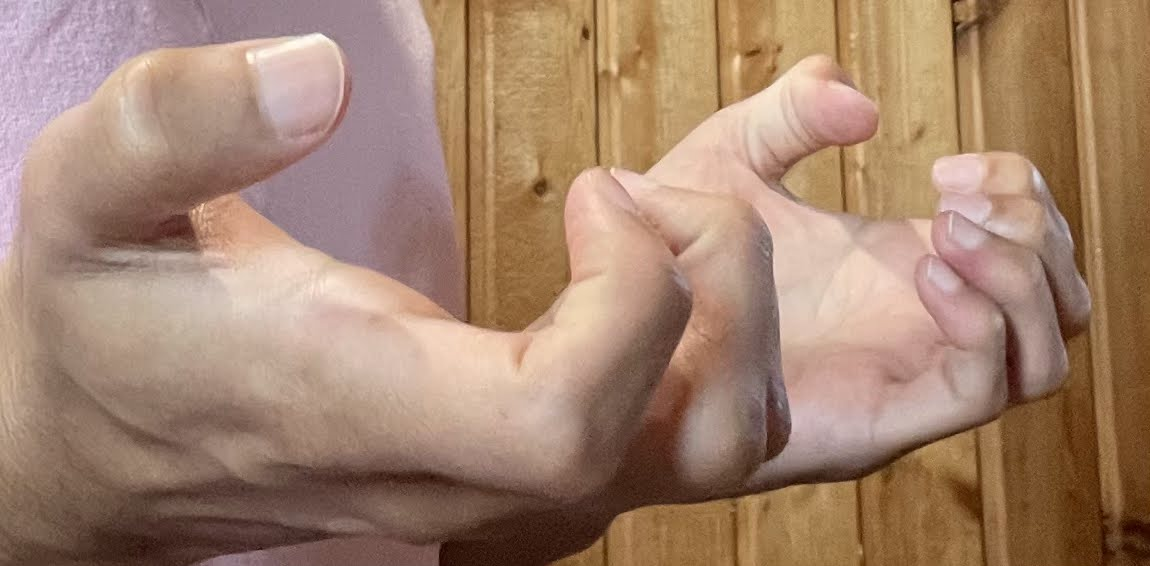want: (21, 27, 1094, 549)
